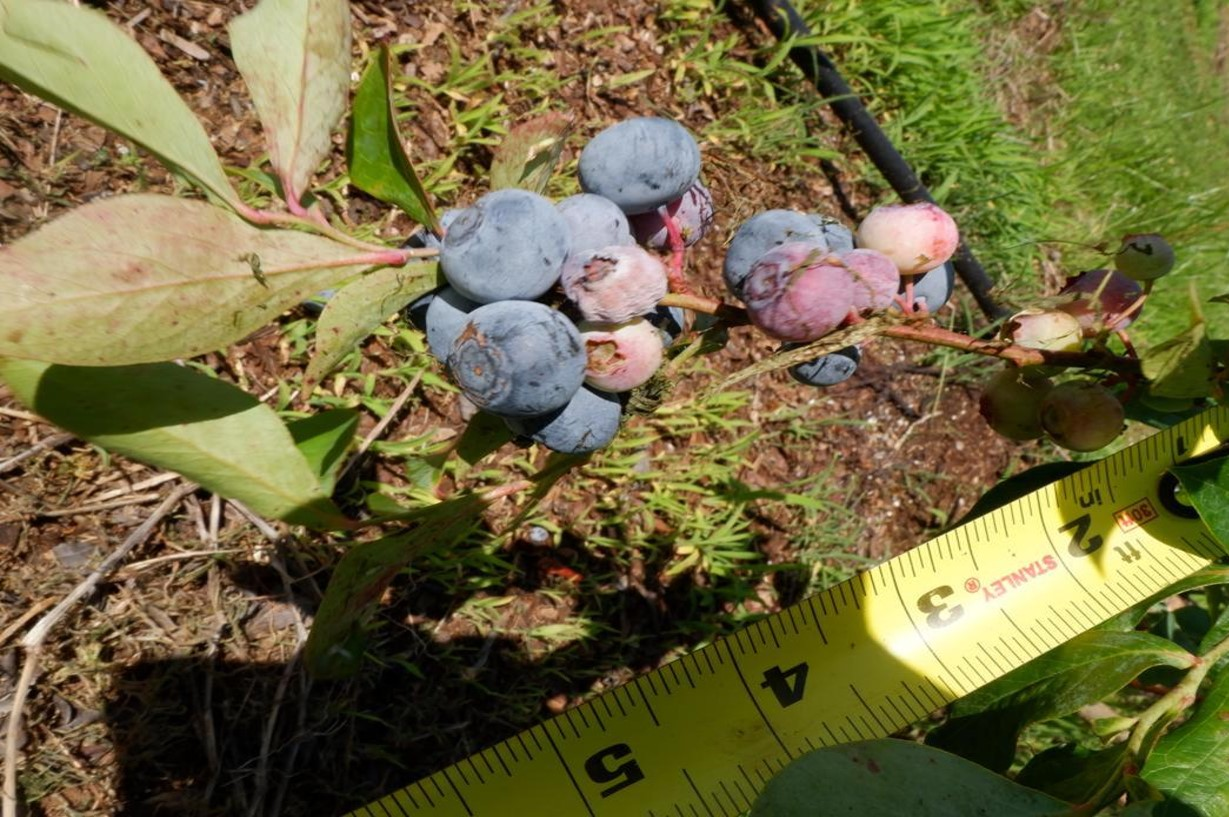Immature: (560, 245, 668, 323), (855, 203, 959, 275), (578, 319, 666, 392), (1038, 380, 1125, 453), (1001, 306, 1086, 379), (630, 178, 715, 249), (1057, 269, 1149, 331), (981, 368, 1053, 441), (840, 249, 900, 324), (892, 260, 954, 315), (1117, 233, 1176, 281), (640, 305, 684, 347)
Mature: (448, 300, 586, 416), (437, 189, 573, 302), (577, 117, 700, 218), (744, 242, 857, 344), (723, 209, 828, 302), (504, 382, 621, 453), (425, 286, 486, 364), (557, 193, 629, 258), (787, 344, 864, 388), (804, 212, 858, 256)
